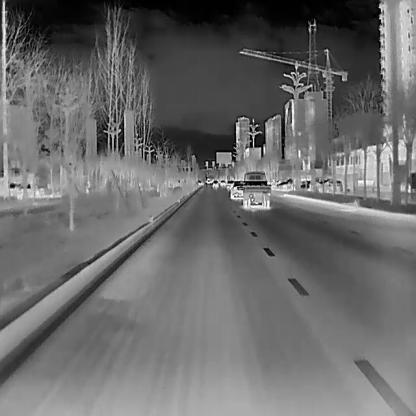car: (314, 178, 350, 193), (300, 175, 328, 191), (276, 177, 304, 190), (229, 180, 244, 199), (226, 180, 234, 190), (212, 180, 218, 188), (220, 179, 226, 186)
truck: (243, 170, 271, 209)
